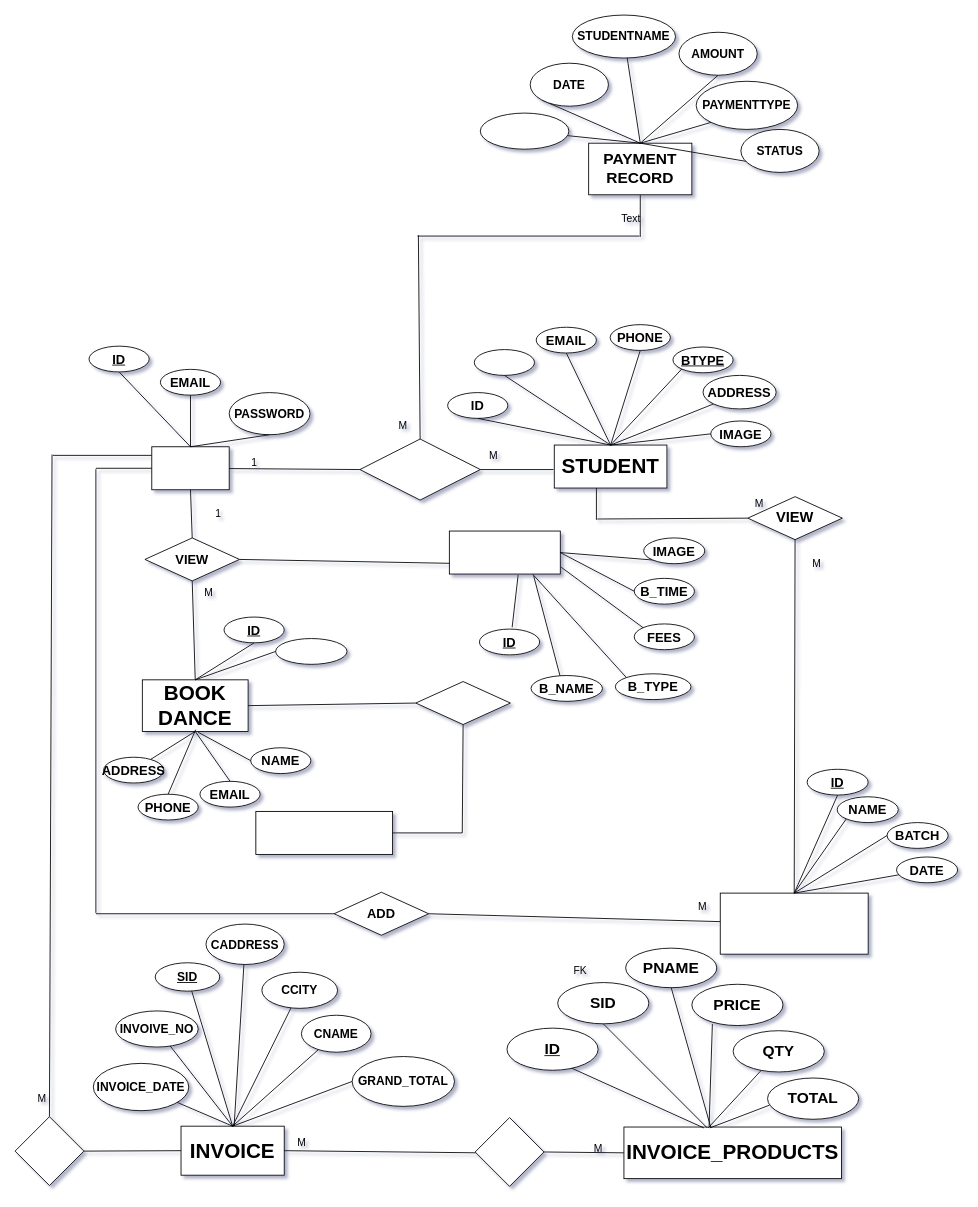
The diagram is 978 pixels wide and 1207 high, and some of its shapes have lost their labels. Each missing label, with the centre of its shape:
ADD ATTENDANCE: [793,923]
ADMIN: [190,468]
BATCHES: [504,552]
BOOK: [462,703]
BOOK_ID: [311,651]
CALL: [509,1151]
MANAGE: [419,469]
ORGANISER: [324,832]
PID: [524,130]
PRINT: [49,1151]
S_NAME: [503,362]
